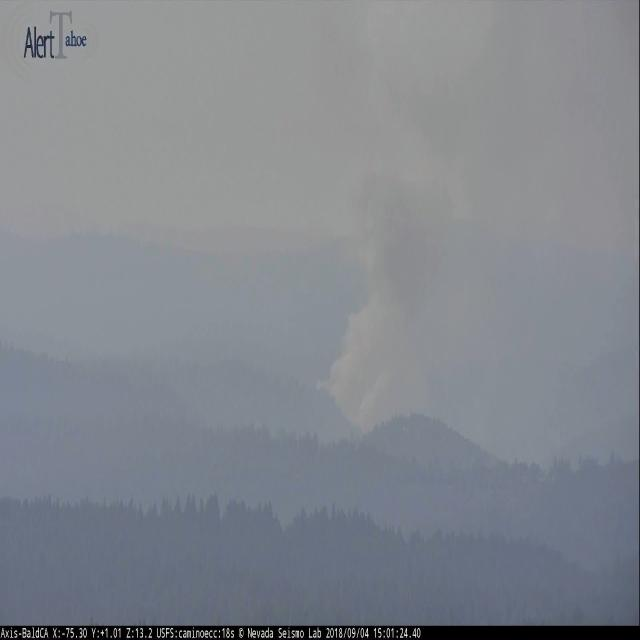smoke: (319, 171, 447, 433)
